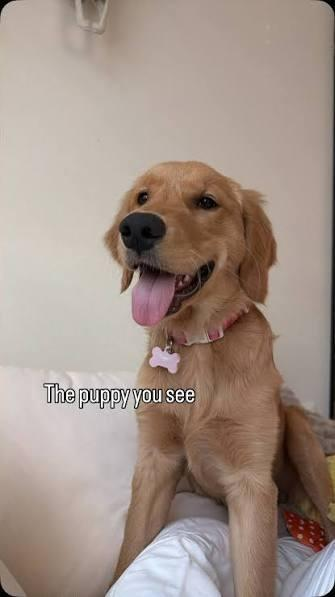puppy-dog: (101, 161, 335, 595)
